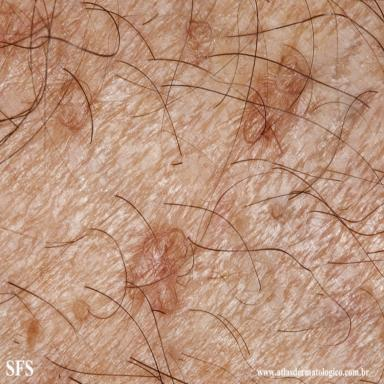Porokeratosis: (244, 50, 309, 144), (134, 229, 192, 313), (57, 76, 90, 130), (187, 20, 213, 65), (72, 300, 90, 323)
